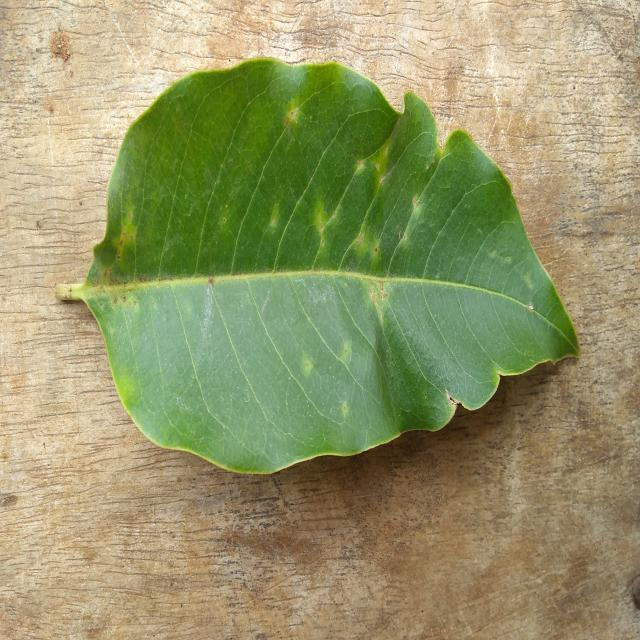seedling blight: (58, 60, 578, 473)
